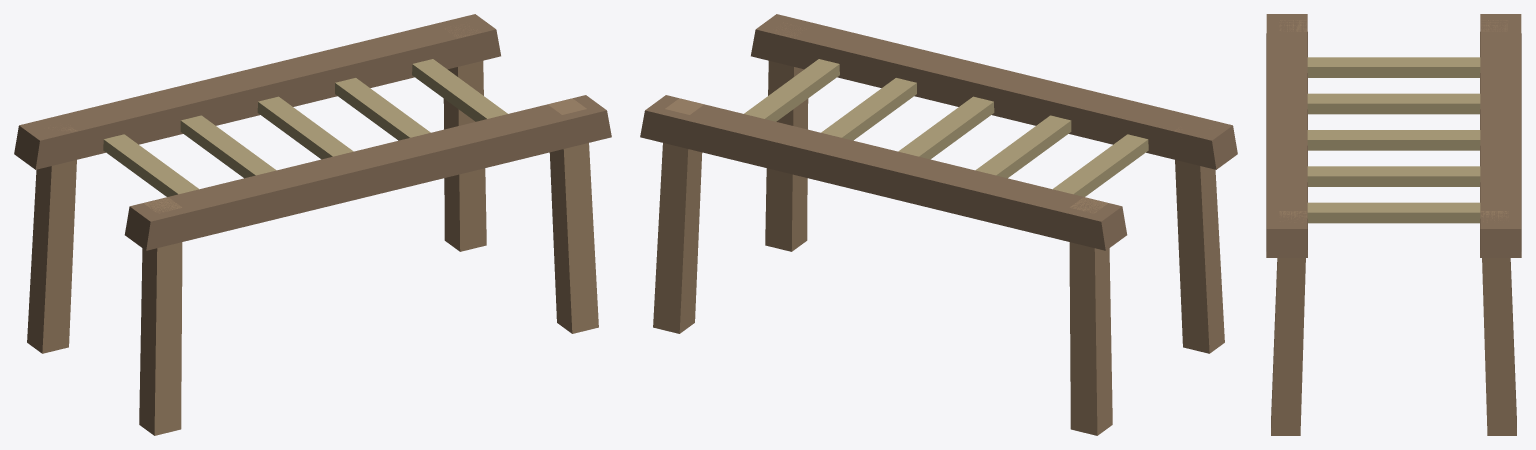
Rendered from station_drying_rack.glb.
3 renders of one model, left to right at view 1: azimuth 30°, elevation 25°; view 2: azimuth 150°, elevation 25°; view 3: azimuth 270°, elevation 25°, orthographic. The views are drawn at different scales.
Visible parts, largest first — view 1: part_1, part_0, part_3, part_5, part_2, part_4, part_7, part_6, part_10, part_8, part_9; view 2: part_0, part_1, part_2, part_4, part_3, part_5, part_7, part_6, part_10, part_8, part_9; view 3: part_1, part_0, part_5, part_4, part_10, part_7, part_6, part_8, part_9.
Part boxes in pixels (bbox=[...]): part_1: bbox=[124, 95, 611, 250]; part_0: bbox=[14, 14, 500, 169]; part_3: bbox=[139, 197, 182, 435]; part_5: bbox=[548, 98, 598, 333]; part_2: bbox=[27, 125, 77, 353]; part_4: bbox=[443, 26, 486, 251]; part_7: bbox=[180, 115, 276, 178]; part_6: bbox=[103, 134, 198, 196]; part_10: bbox=[412, 59, 507, 121]; part_8: bbox=[257, 96, 353, 159]; part_9: bbox=[335, 78, 430, 140]; part_0: bbox=[640, 95, 1127, 250]; part_1: bbox=[751, 14, 1237, 169]; part_2: bbox=[1069, 197, 1112, 435]; part_4: bbox=[653, 98, 703, 333]; part_3: bbox=[1175, 128, 1224, 353]; part_5: bbox=[765, 22, 808, 251]; part_7: bbox=[975, 115, 1071, 178]; part_6: bbox=[1053, 134, 1148, 196]; part_10: bbox=[744, 59, 839, 121]; part_8: bbox=[898, 96, 994, 159]; part_9: bbox=[821, 78, 916, 140]; part_1: bbox=[1266, 14, 1307, 257]; part_0: bbox=[1480, 14, 1521, 257]; part_5: bbox=[1271, 211, 1306, 435]; part_4: bbox=[1481, 211, 1516, 435]; part_10: bbox=[1307, 202, 1480, 223]; part_7: bbox=[1307, 93, 1480, 114]; part_6: bbox=[1307, 57, 1480, 77]; part_8: bbox=[1307, 130, 1480, 150]; part_9: bbox=[1307, 166, 1480, 186].
Size of the model in its own units: 1.75 by 0.78 by 0.86.
